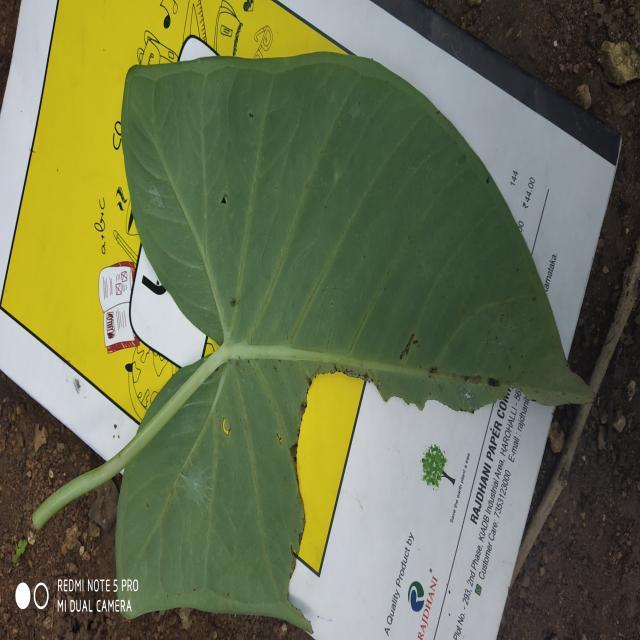leaf: (30, 40, 595, 634)
